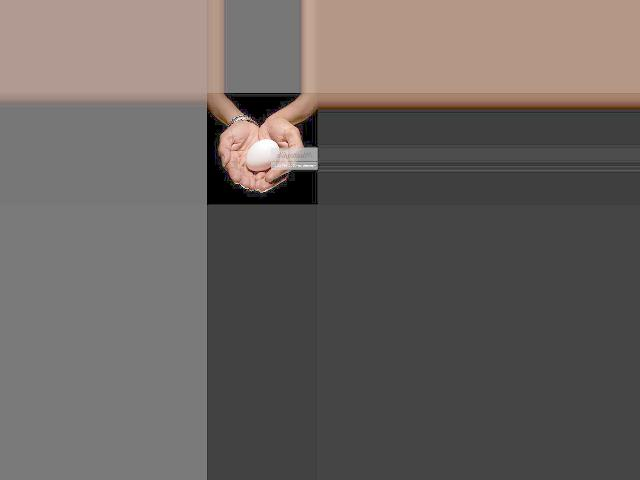egg: (245, 139, 278, 172)
